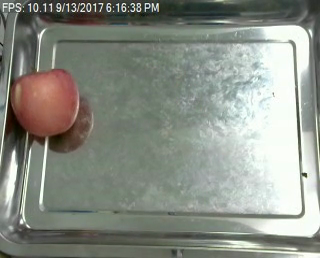Apple: (9, 68, 81, 137)
